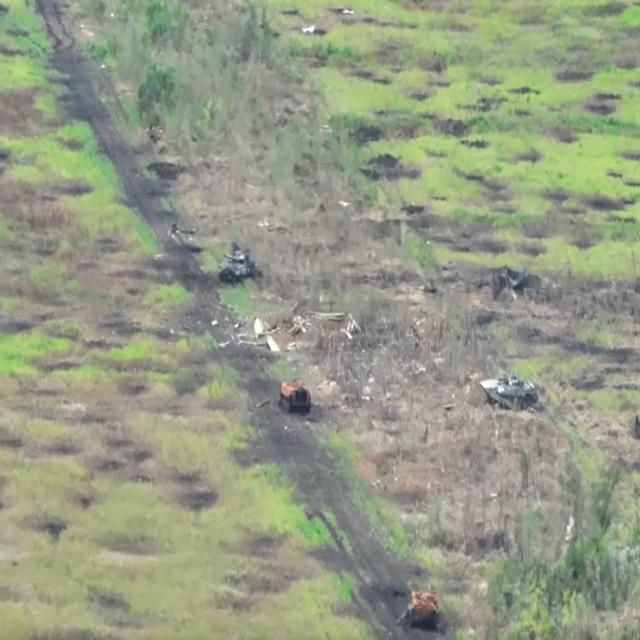APC: (480, 372, 540, 414)
Destroyed: (279, 377, 313, 417), (409, 587, 441, 629)
MBT: (217, 247, 256, 285)
